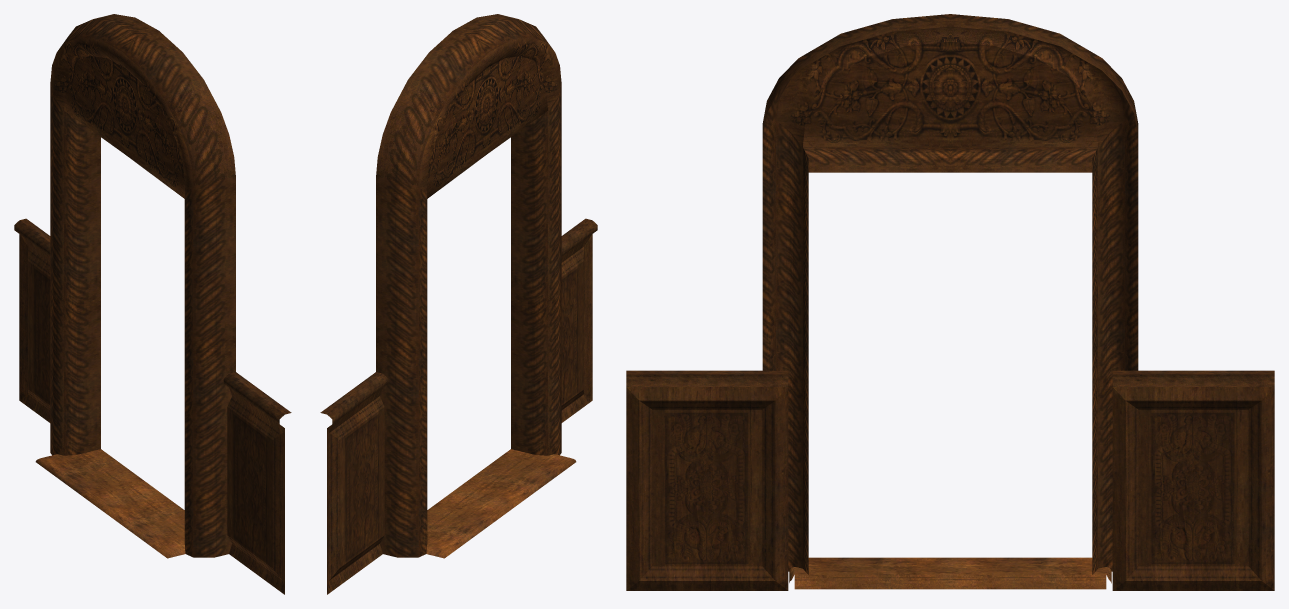
File: wood_panneling_door_exit_frame.dae
3 renders of one model, left to right at view 1: azimuth 30°, elevation 25°; view 2: azimuth 150°, elevation 25°; view 3: azimuth 270°, elevation 25°, orthographic. The views are drawn at different scales.
Visible parts, largest first — view 1: Box005, Box003; view 2: Box005, Box003; view 3: Box005, Box003.
Boxes of the visible parts, left/top/right/bottom form: Box005: left=35, top=14, right=235, bottom=558; Box003: left=14, top=218, right=291, bottom=594; Box005: left=376, top=14, right=576, bottom=558; Box003: left=320, top=218, right=597, bottom=594; Box005: left=762, top=14, right=1138, bottom=589; Box003: left=626, top=370, right=1274, bottom=590.
Size of the model in its own units: 0.5017 by 3.87 by 4.
